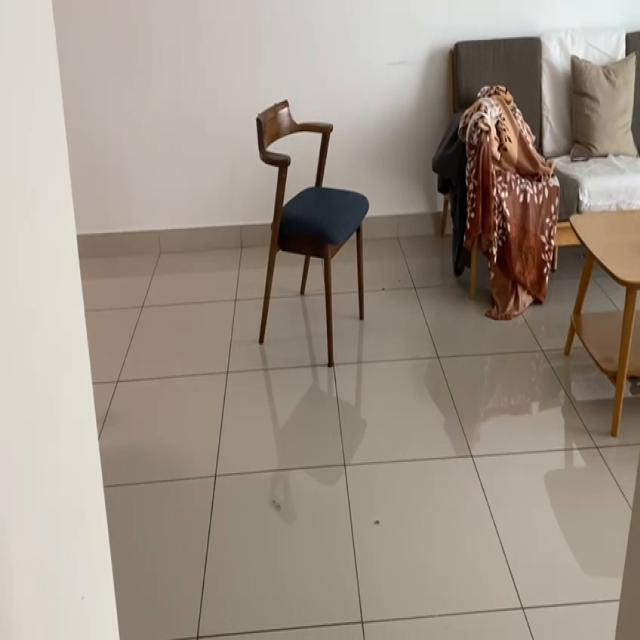Chair: (230, 76, 385, 364)
